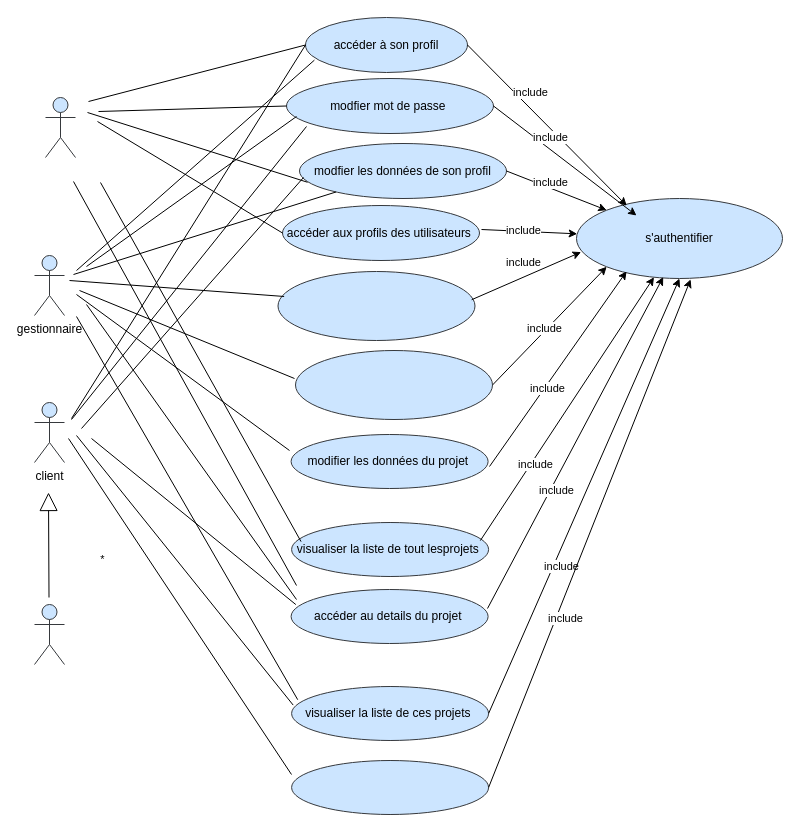
This 800x832 diagram has some shape labels left out. The centre of each missing label's shape, as x and y in pixels:
administrateur: (x=60, y=127)
affecter les clients et les membres aux projet: (x=393, y=385)
ajouter un projet: (x=376, y=305)
membre: (x=49, y=634)
se notifier lors de l'attribution à un projet: (x=390, y=787)
